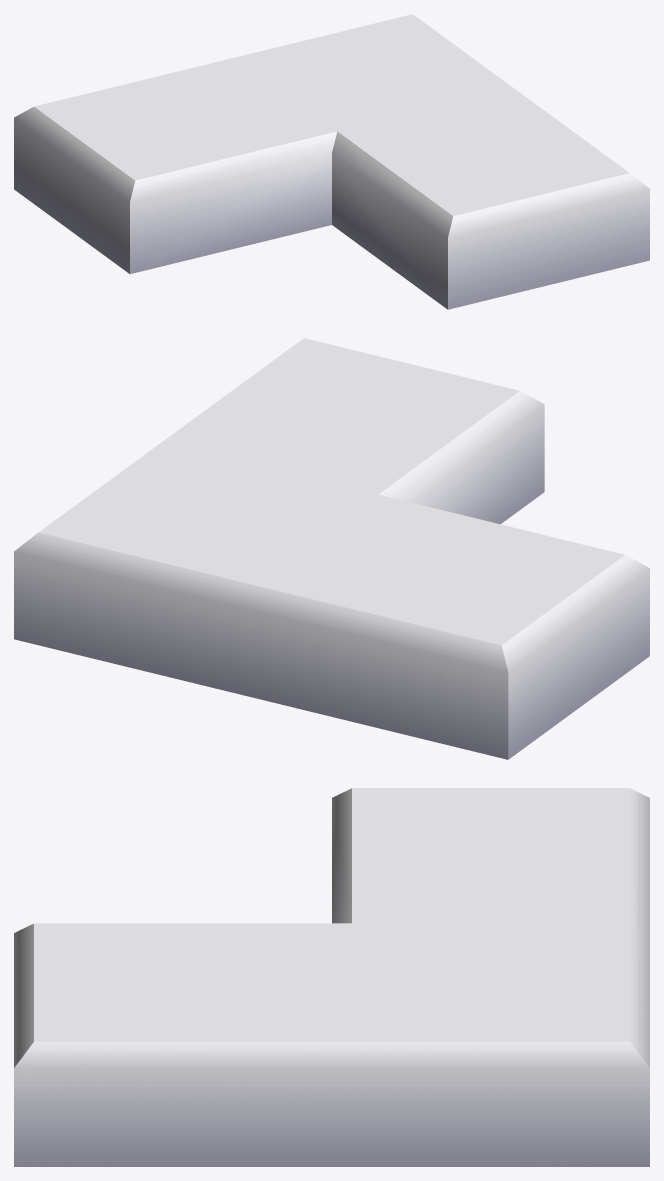
The model's file is none-hq-plate-corner.glb.
3 views of the same model, one above another, from view 1: azimuth 30°, elevation 25°; view 2: azimuth 150°, elevation 25°; view 3: azimuth 270°, elevation 25° (orthographic). The views are drawn at different scales.
Parts seen in each view (by area): view 1: none-hq-plate-corner; view 2: none-hq-plate-corner; view 3: none-hq-plate-corner.
Part boxes in pixels (box(x1,y1,x2,y2)): none-hq-plate-corner: box(14, 14, 649, 309); none-hq-plate-corner: box(14, 338, 649, 759); none-hq-plate-corner: box(14, 788, 649, 1166).
Bounding box in the file's own units: 0.795 × 0.16 × 0.79.
1 material, 1 textured.
